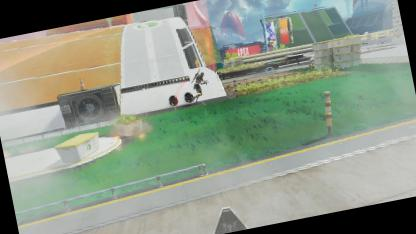Target: (189, 71, 209, 99)
